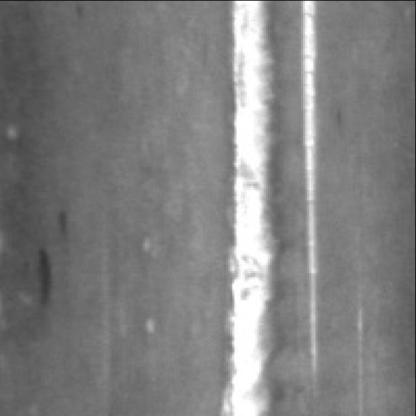inclusion: (33, 239, 61, 310)
scratches: (227, 0, 285, 414), (297, 0, 325, 381)
